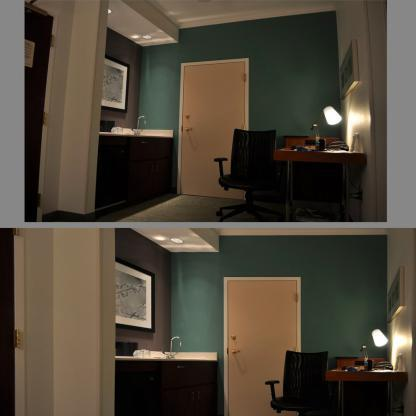door: (227, 280, 299, 416), (181, 62, 246, 197), (24, 6, 54, 223), (0, 228, 19, 415)
hinged: (14, 328, 22, 348), (43, 111, 47, 124), (51, 33, 54, 48), (14, 228, 19, 235), (38, 193, 40, 208), (295, 292, 298, 302), (243, 73, 246, 82), (295, 345, 298, 352), (244, 125, 245, 130)
lever: (183, 127, 194, 132), (232, 348, 241, 354)
